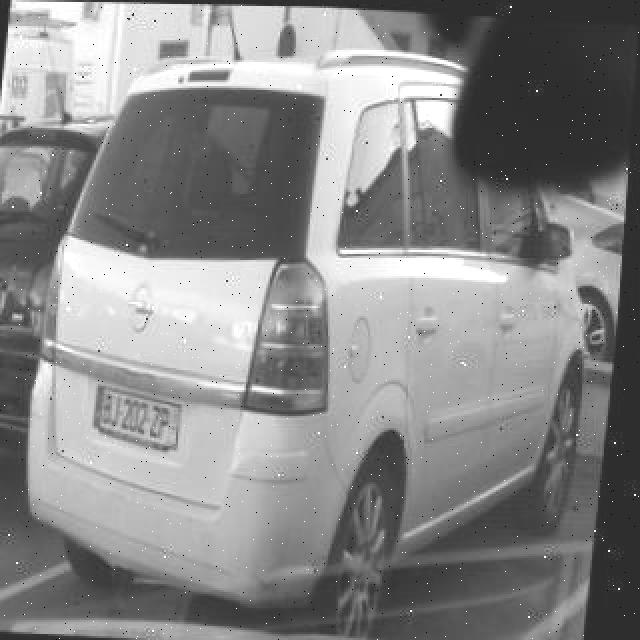Autre: (90, 387, 186, 449)
